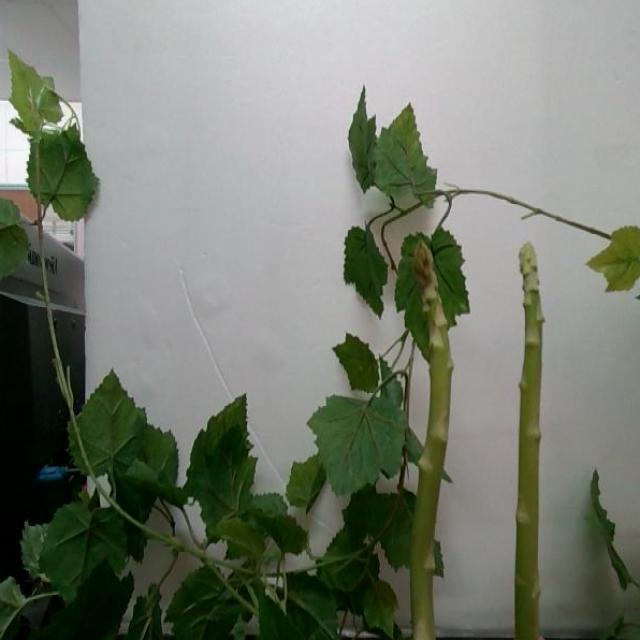aspargus: (409, 237, 455, 640), (514, 245, 547, 640)
